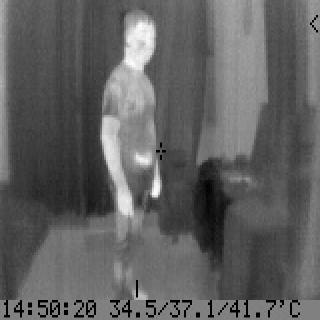Gun: (132, 145, 154, 183)
